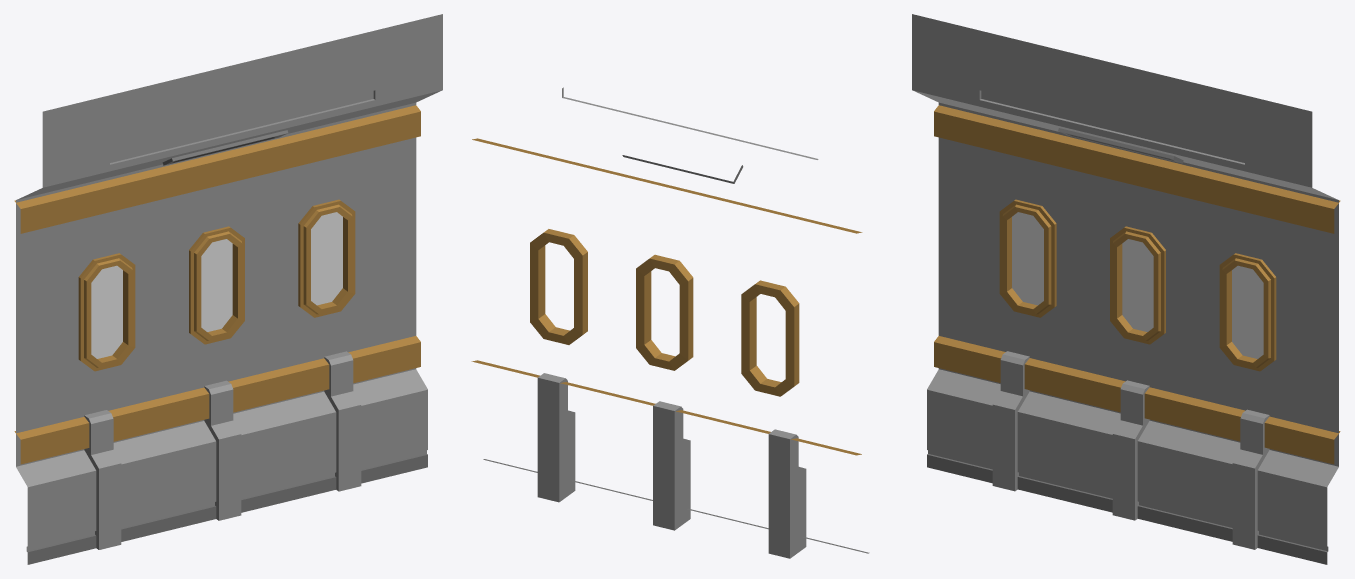
File: ThreeWindows_Wall_SideB.glb
3 renders of one model, left to right at view 1: azimuth 30°, elevation 25°; view 2: azimuth 150°, elevation 25°; view 3: azimuth 330°, elevation 25°, orthographic. The views are drawn at different scales.
Parts seen in each view (by area): view 1: ThreeWindows_Wall_SideB; view 2: ThreeWindows_Wall_SideB; view 3: ThreeWindows_Wall_SideB.
Boxes of the visible parts, <box> form: ThreeWindows_Wall_SideB: <box>14,14,442,564</box>; ThreeWindows_Wall_SideB: <box>471,87,869,558</box>; ThreeWindows_Wall_SideB: <box>912,14,1340,564</box>.
Bounding box in the file's own units: 4 × 4.43 × 0.5261.
